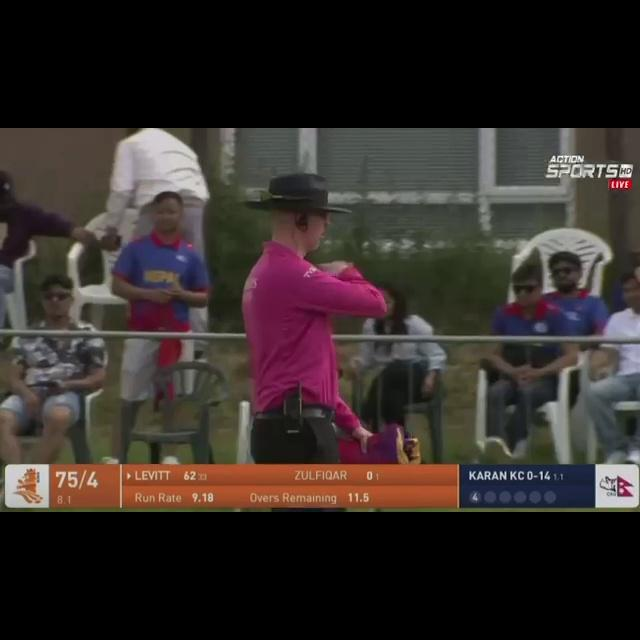umpire: (192, 142, 451, 429)
